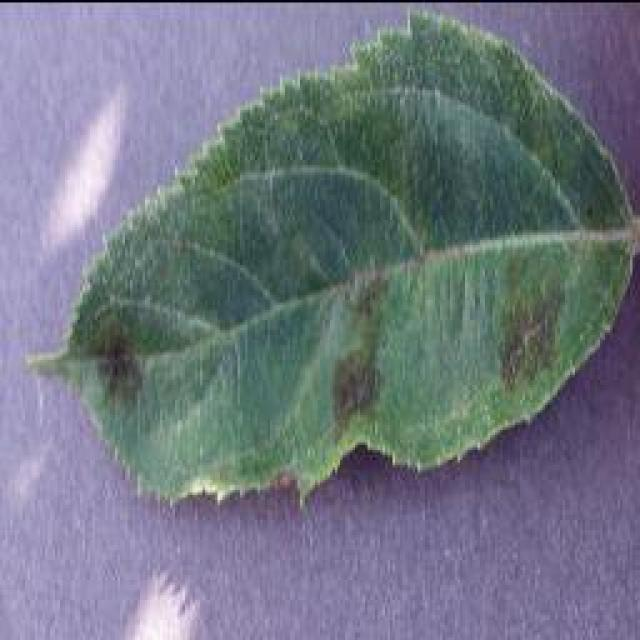apple scab disease: (25, 8, 637, 510)
